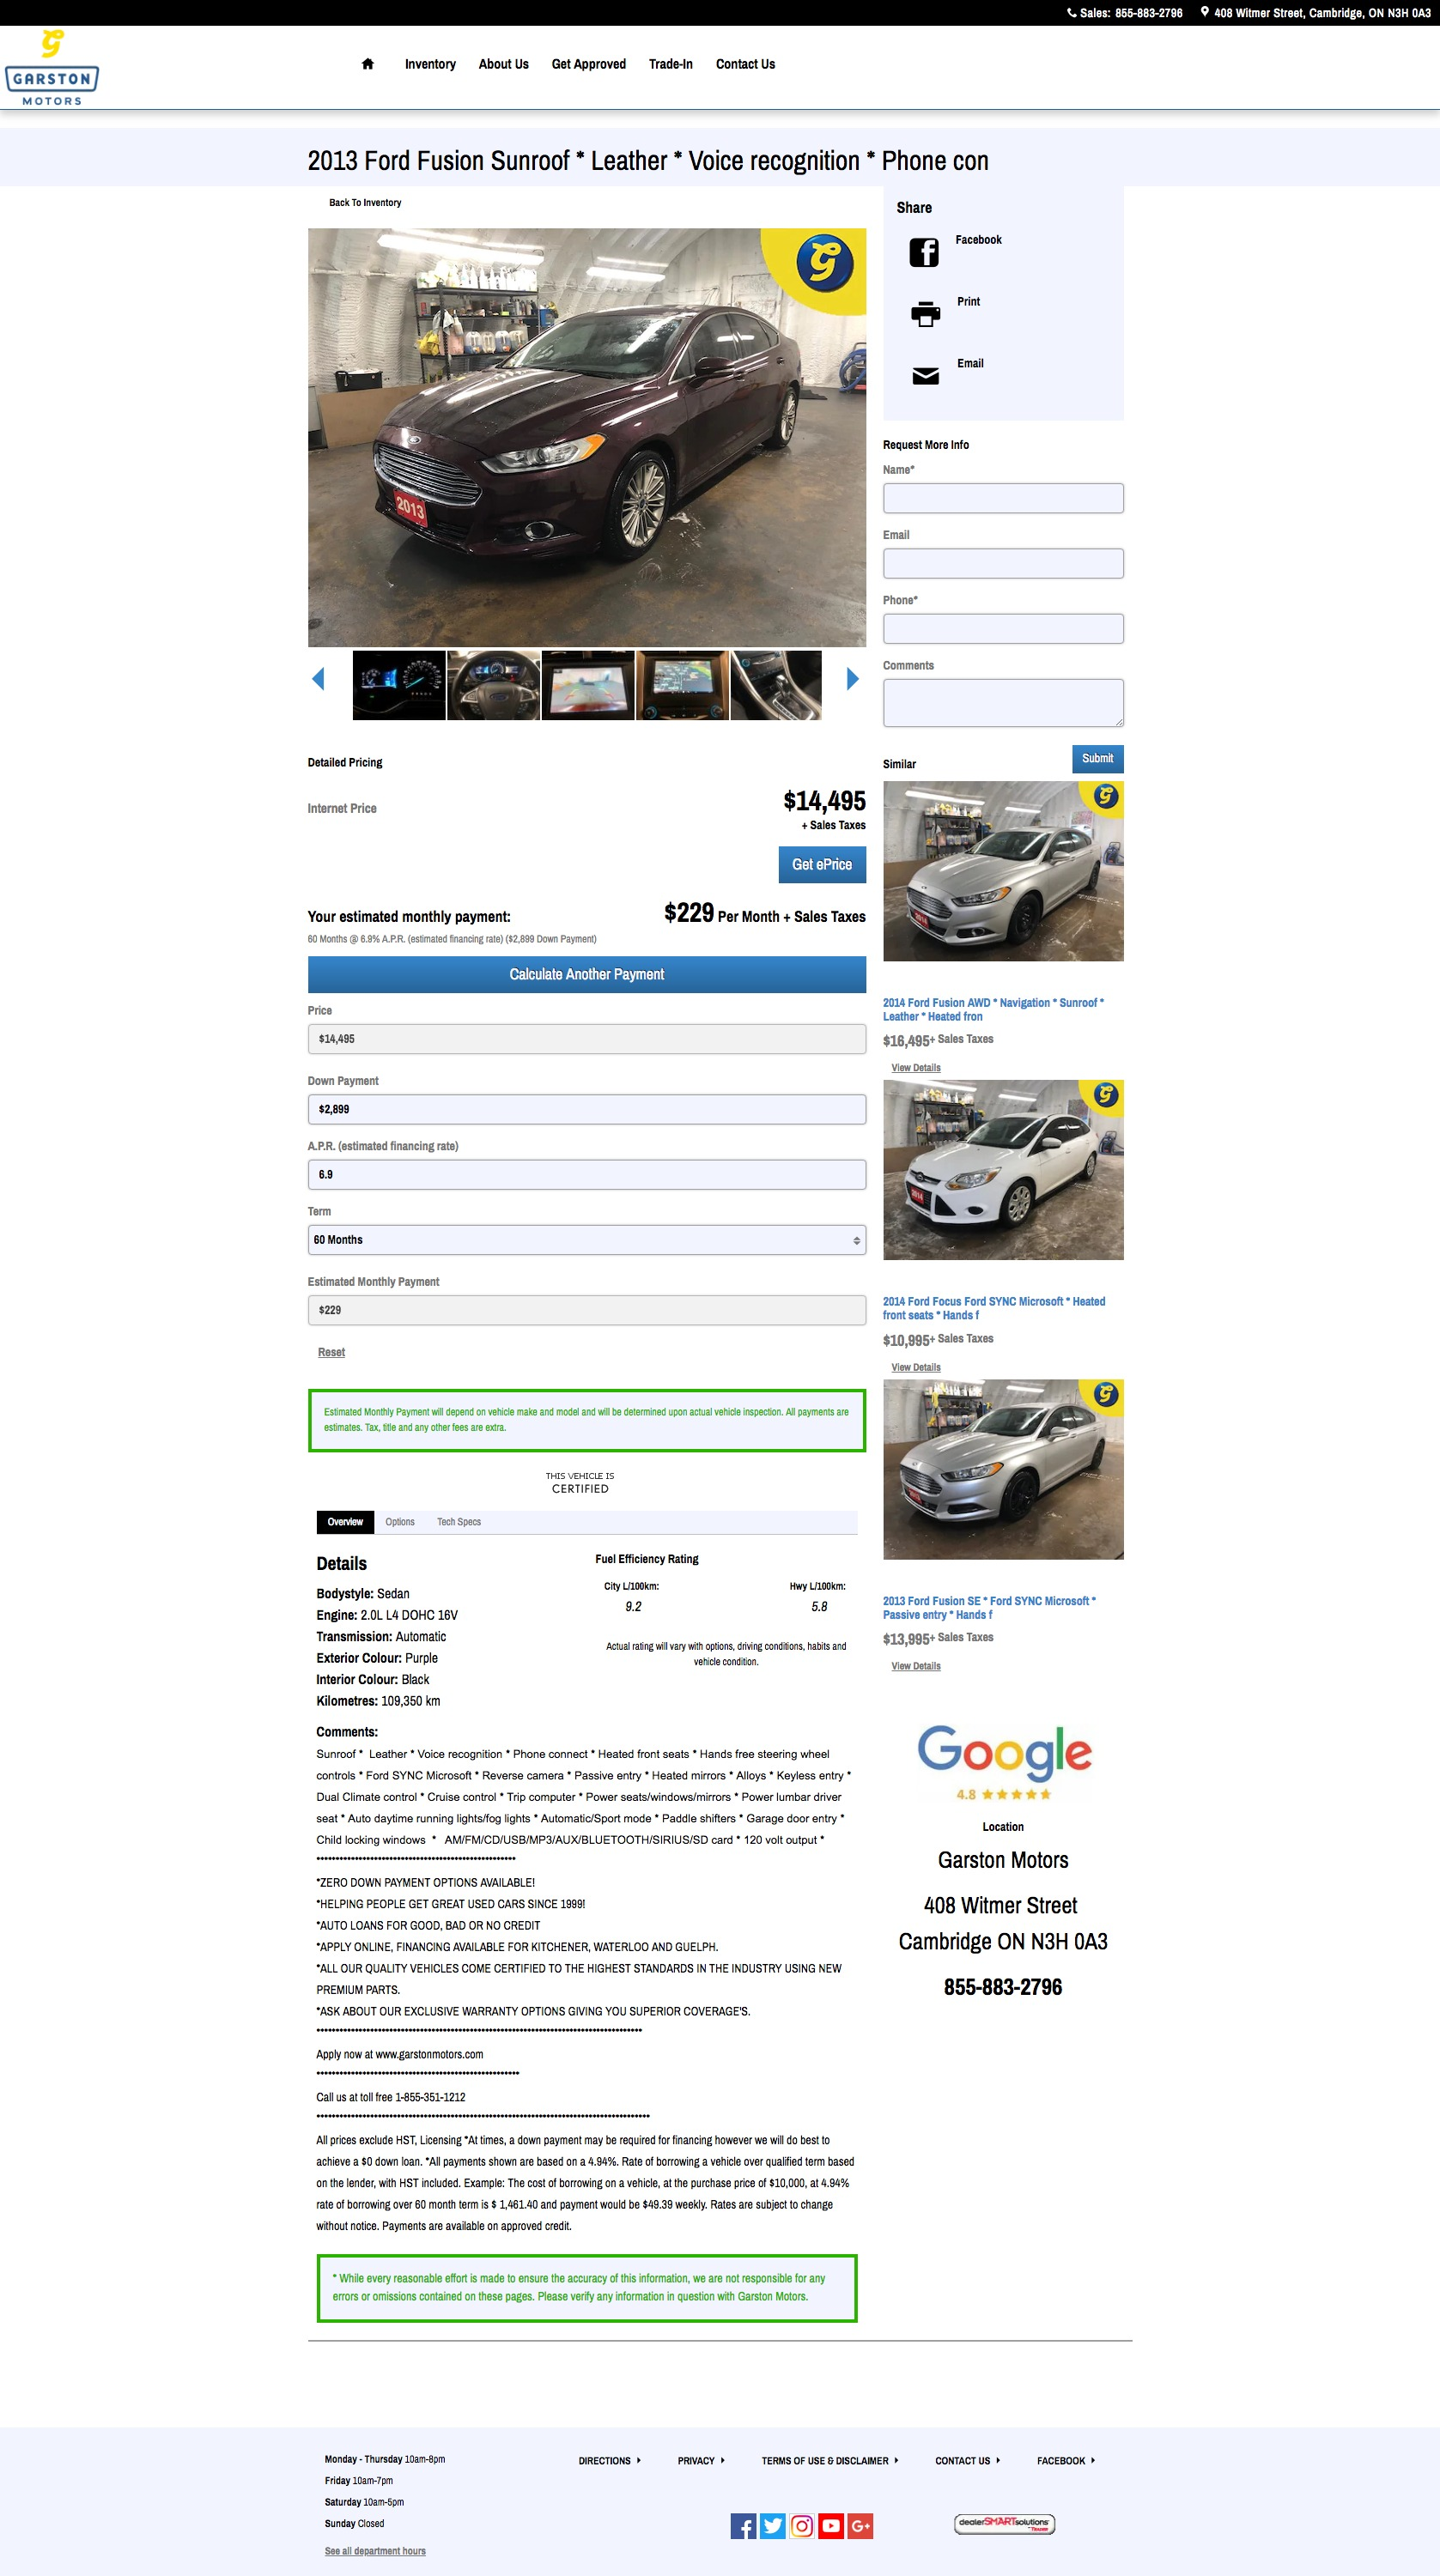car: (847, 667, 860, 692)
